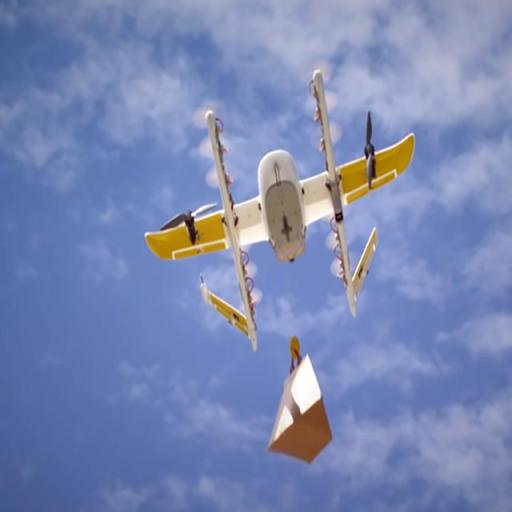uav: (141, 65, 438, 345)
